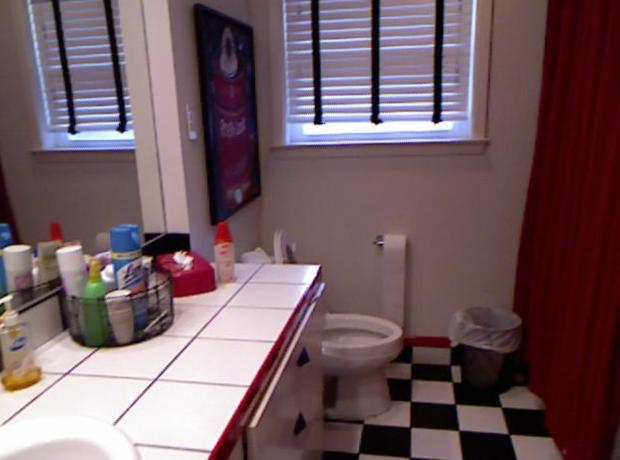Bote de Basura: (451, 301, 522, 393)
Sanitario: (258, 214, 409, 430)
